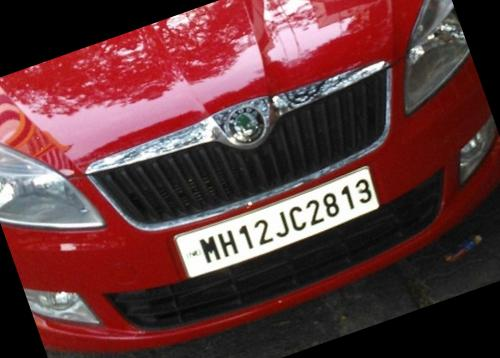plate: (165, 152, 396, 286)
